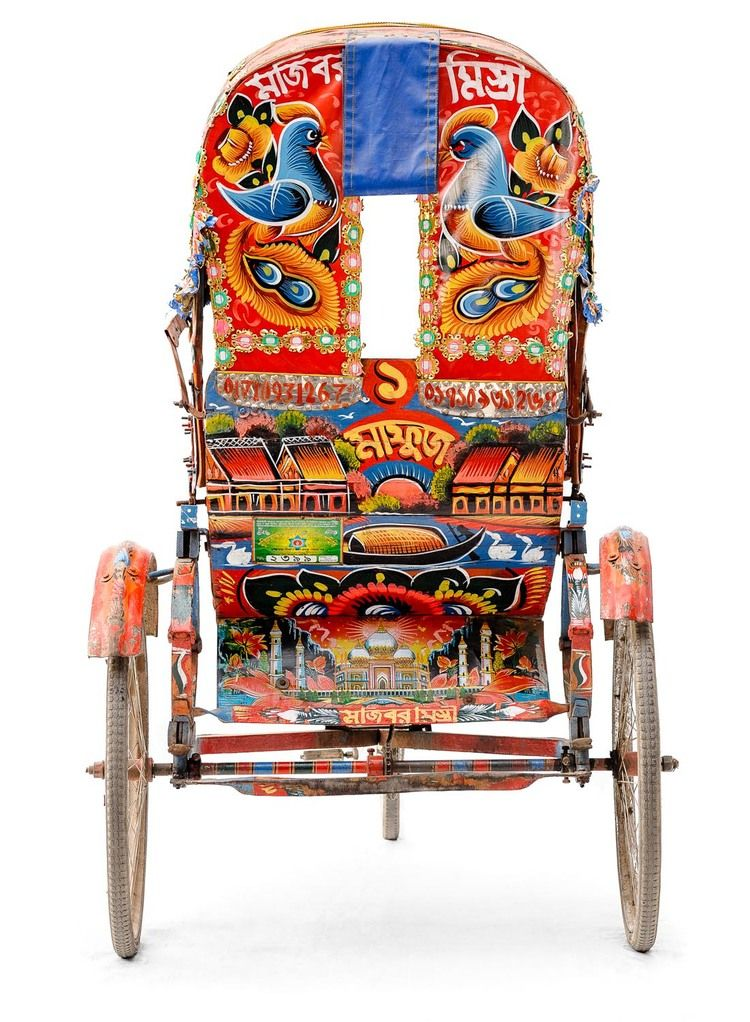Rickshaw: (61, 28, 682, 967)
